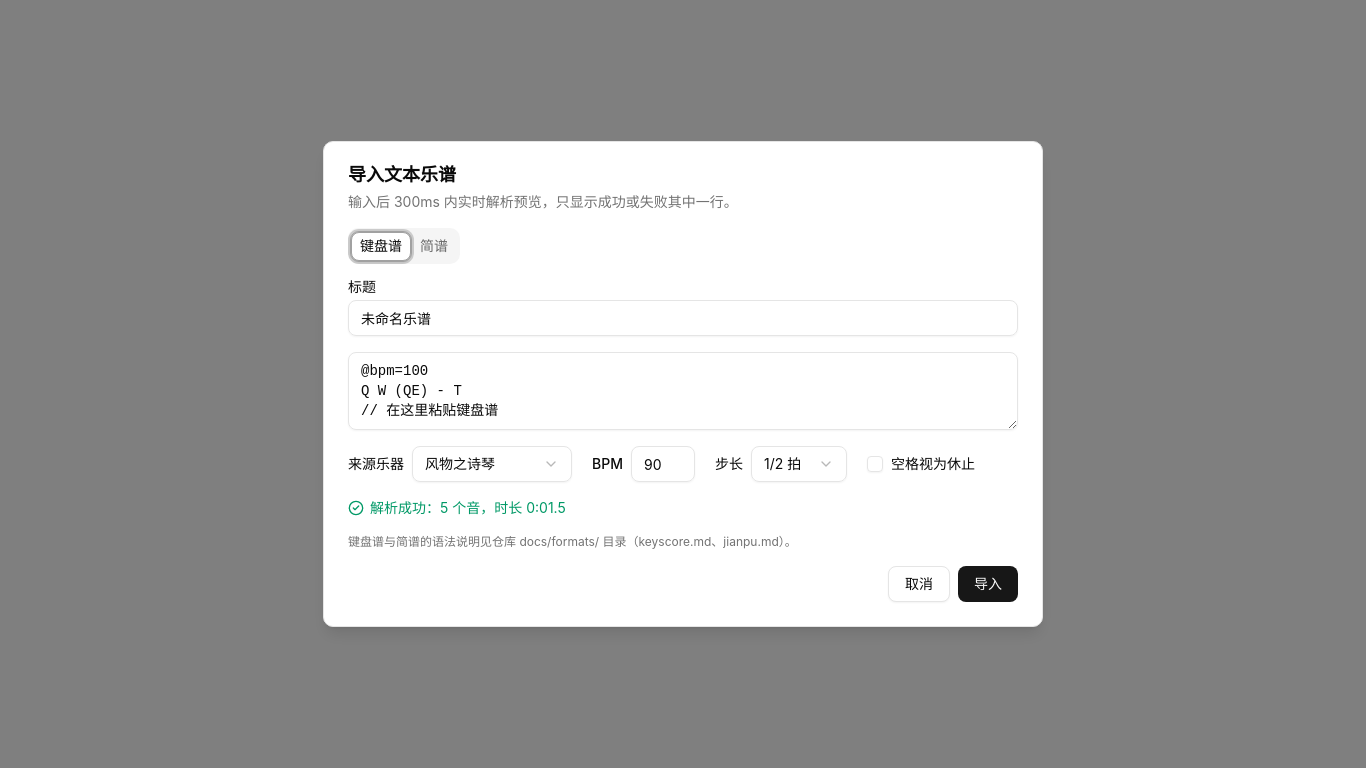
Test: TextScoreDialog › 解析错误显示行列号、出错行原文与 ^ 标记，导入禁用
In the text box named "乐谱文本": (683, 391) x1=348 y1=352 x2=1018 y2=430, type "Q W E K"
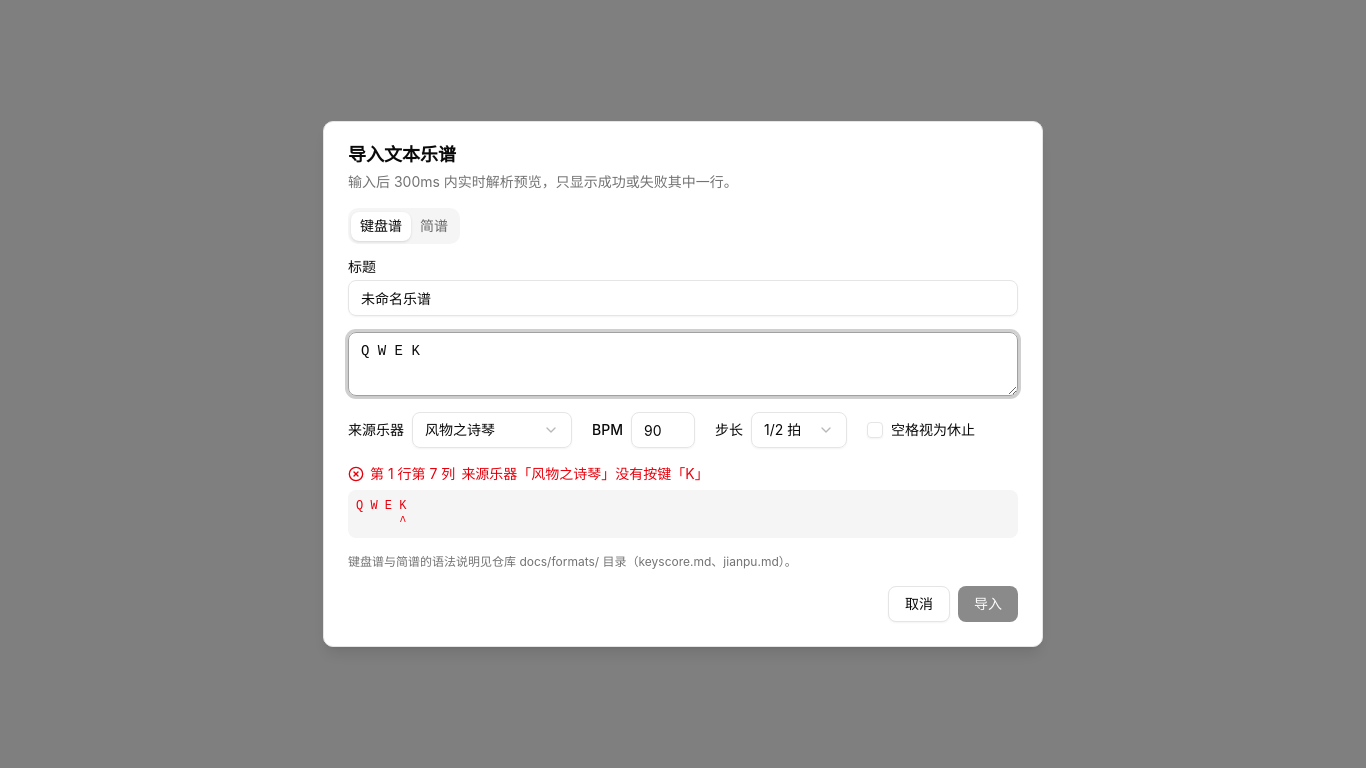
Now the text "来源乐器「风物之诗琴」没有按键「K」" is shown, box x1=461 y1=464 x2=709 y2=484
Now the text "第 1 行第 7 列" is shown, box x1=370 y1=464 x2=455 y2=484
Now the button "导入" is disabled, box x1=958 y1=586 x2=1018 y2=622
